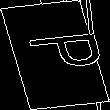P_E: (8, 32, 102, 78)
